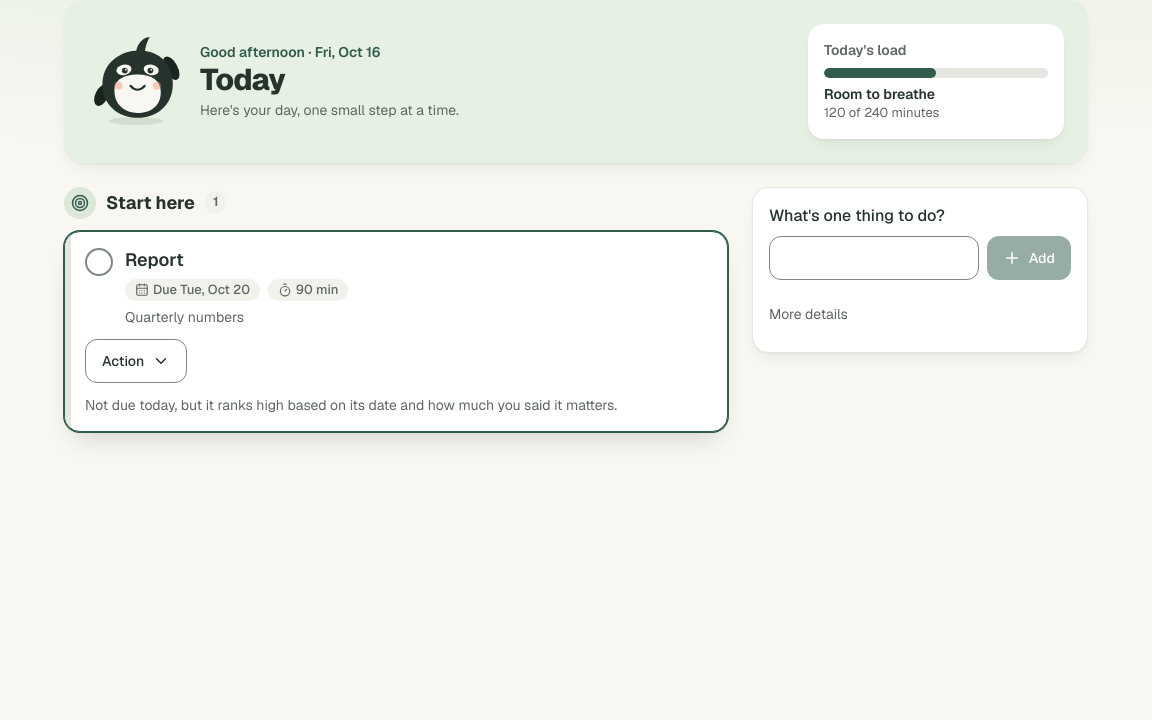
Test: TodayView › undoes a delete by recreating the task with the same details
The width and height of the screenshot is (1152, 720).
Click the button "Action": (136, 361) [85,339,187,383]
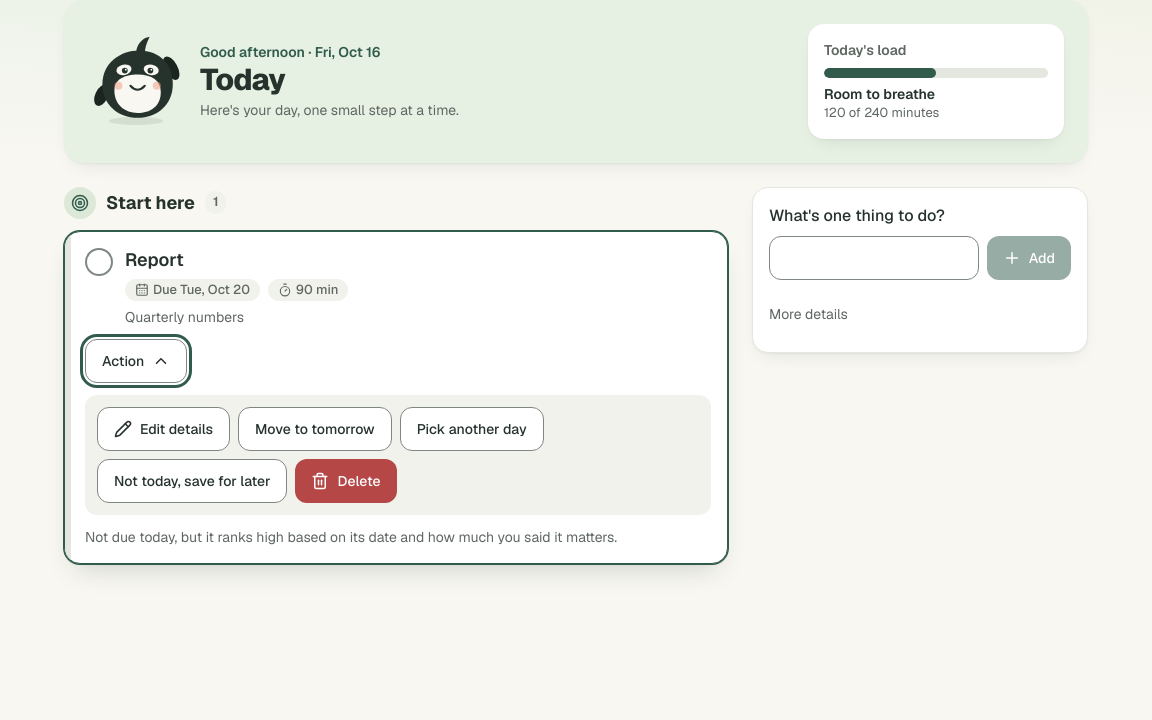
Click the button "Delete": (346, 481) [295,459,396,503]
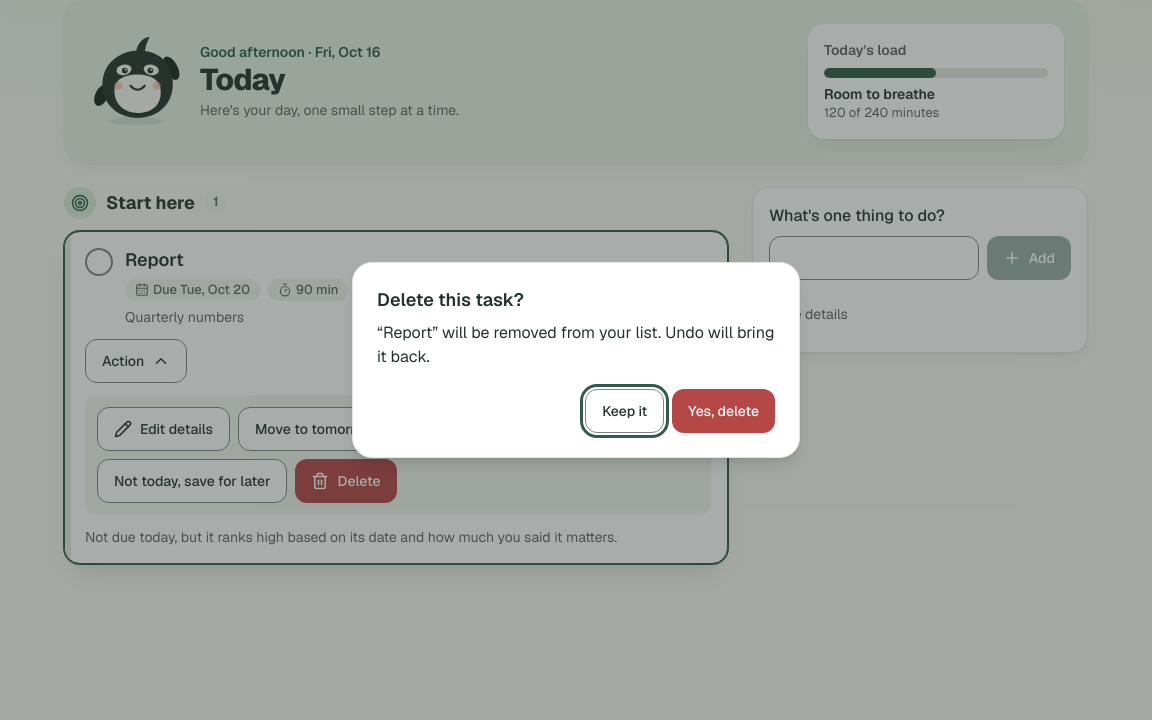
Click the button "Yes, delete": (724, 411) [672,389,775,433]
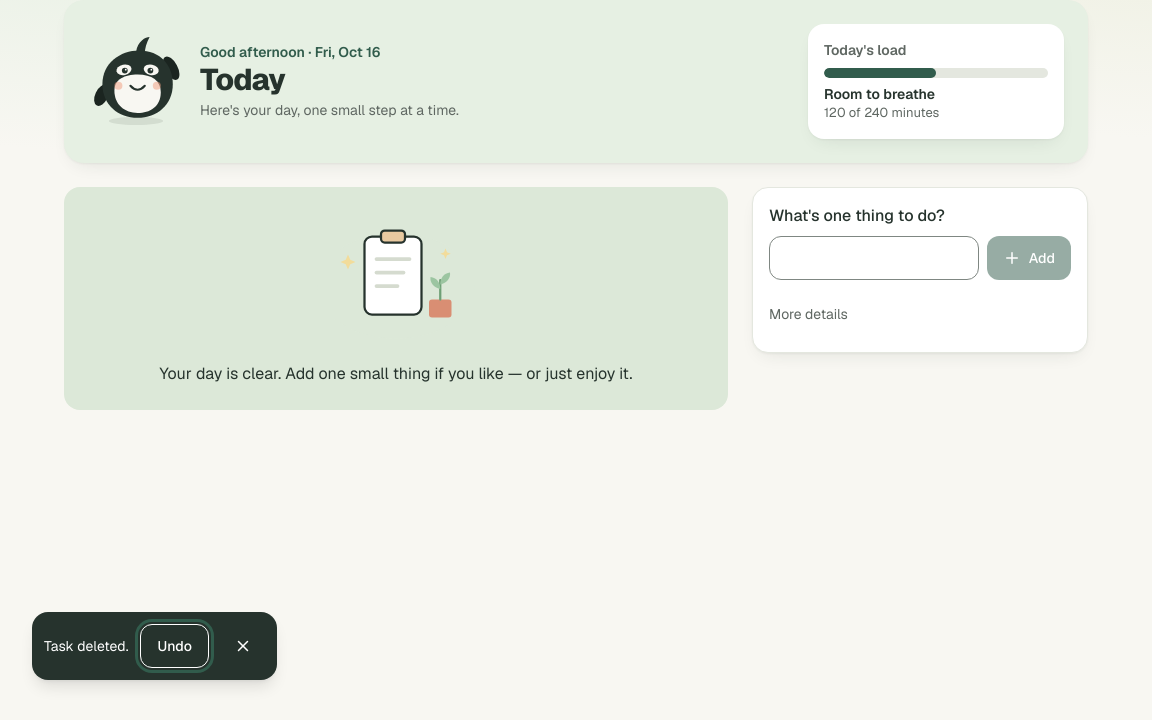
Expected: the text "Task deleted." is shown, [44,636,128,656]
Click the button "Undo": (175, 646) [140,624,209,668]
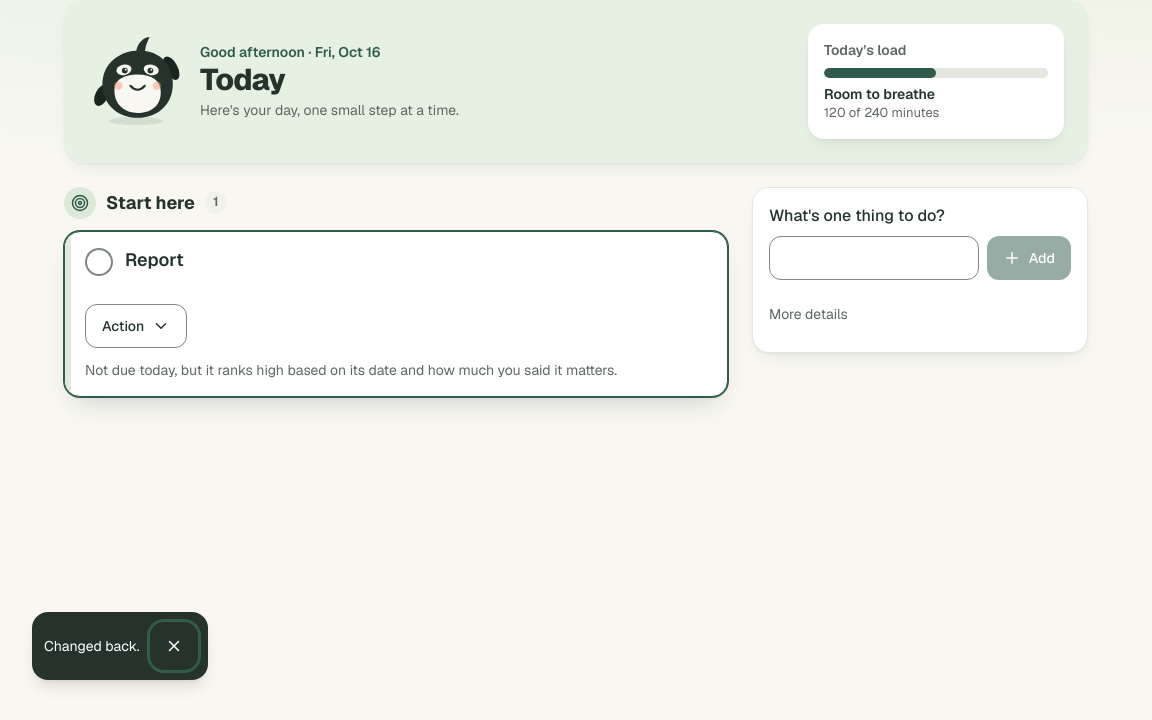
Expected: the checkbox labelled "Report" is shown, [85,248,113,276]
